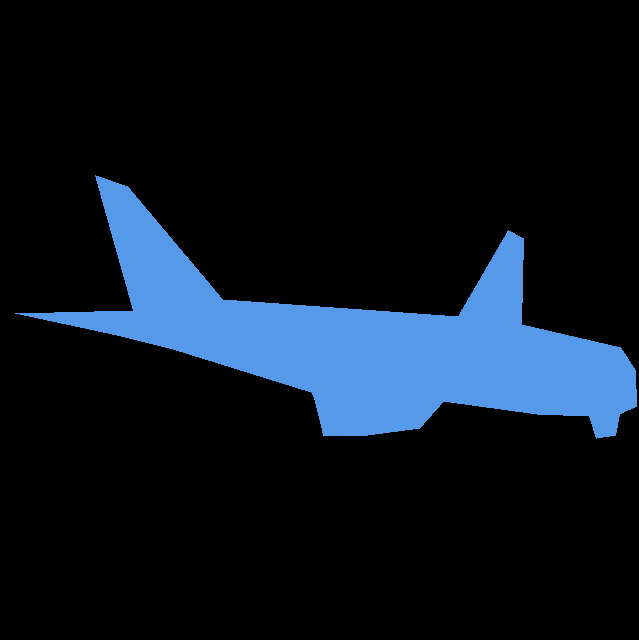Airplane: (15, 175, 637, 439)
